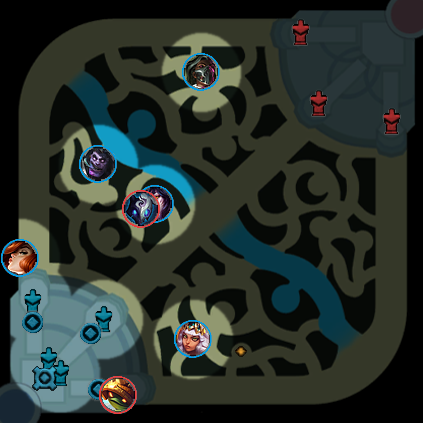Ahri: (136, 185, 174, 223)
DrMundo: (79, 145, 117, 183)
Kindred: (122, 190, 160, 228)
MissFortune: (1, 239, 39, 277)
Qiyana: (174, 320, 212, 358)
Rammus: (99, 376, 137, 414)
Renata: (182, 53, 220, 91)
